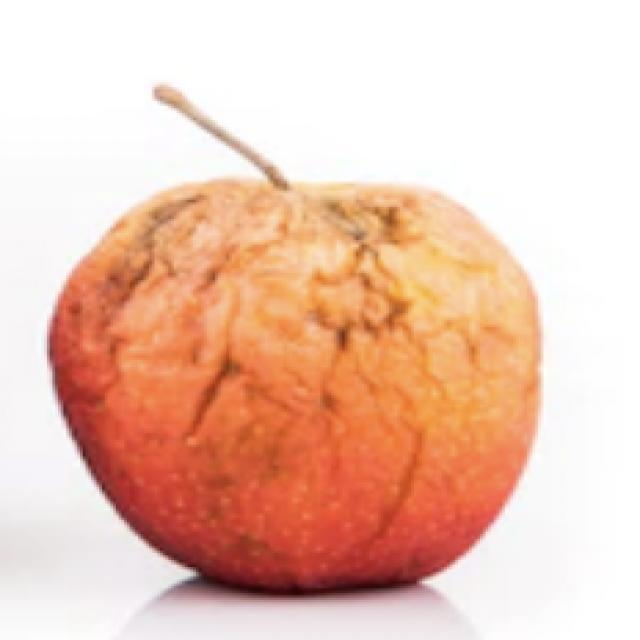Rotten: (42, 173, 550, 595)
